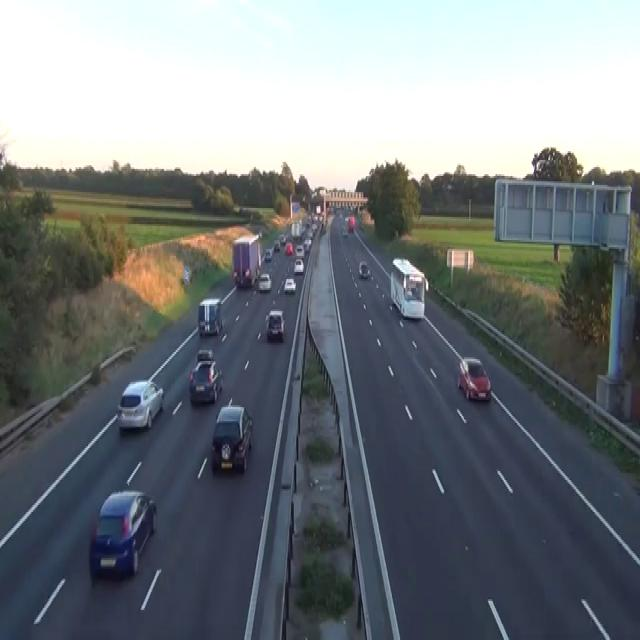Car: (89, 489, 157, 579), (211, 400, 253, 473), (116, 379, 164, 430), (188, 359, 223, 404), (457, 356, 491, 400), (265, 310, 284, 340), (258, 272, 271, 292), (197, 347, 214, 362), (283, 278, 296, 294), (358, 260, 369, 278), (293, 258, 304, 274), (182, 265, 191, 284), (264, 247, 272, 261), (284, 242, 293, 254), (295, 244, 304, 256), (303, 238, 311, 251), (278, 233, 286, 245), (273, 238, 280, 251), (446, 182, 455, 190), (233, 204, 240, 213), (342, 226, 348, 236), (321, 222, 326, 233), (311, 222, 317, 231), (306, 217, 311, 226), (344, 215, 349, 222), (337, 212, 342, 218)
Truck: (390, 256, 428, 318), (231, 233, 261, 286), (197, 297, 223, 336)
